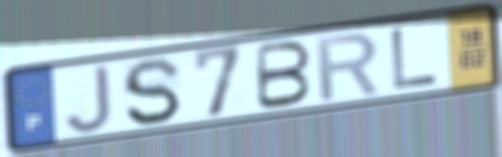7: (190, 43, 245, 121)
B: (254, 38, 314, 113)
J: (62, 61, 115, 136)
L: (388, 26, 443, 92)
R: (313, 30, 383, 104)
S: (119, 56, 185, 128)
